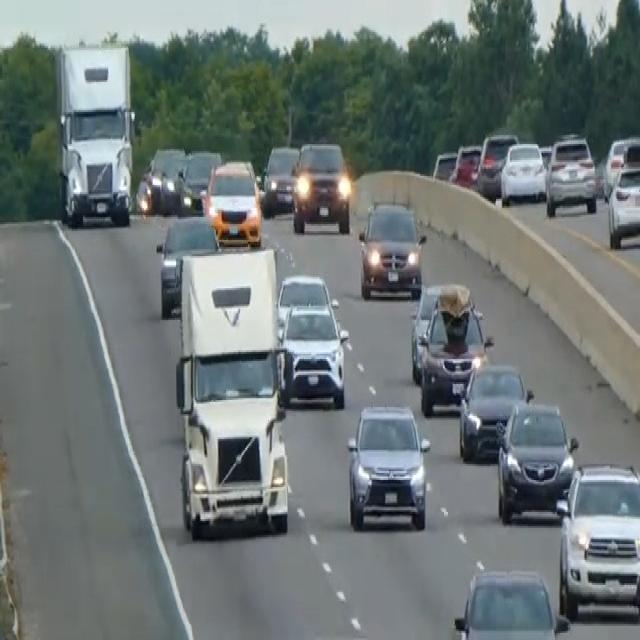car: (555, 458, 639, 620), (345, 400, 431, 532), (495, 397, 578, 522), (418, 283, 492, 416), (452, 566, 570, 638), (457, 359, 533, 461), (279, 301, 348, 407), (357, 198, 425, 300), (155, 212, 220, 318), (409, 279, 471, 384), (290, 138, 351, 234), (202, 157, 262, 247), (545, 131, 597, 217), (276, 270, 335, 334), (138, 144, 187, 215), (500, 139, 546, 206), (176, 148, 222, 215), (606, 158, 639, 249), (476, 130, 518, 197), (261, 142, 299, 215), (603, 133, 639, 199), (449, 142, 482, 188), (431, 150, 457, 182)
lorry: (173, 245, 290, 540), (53, 39, 136, 228)
